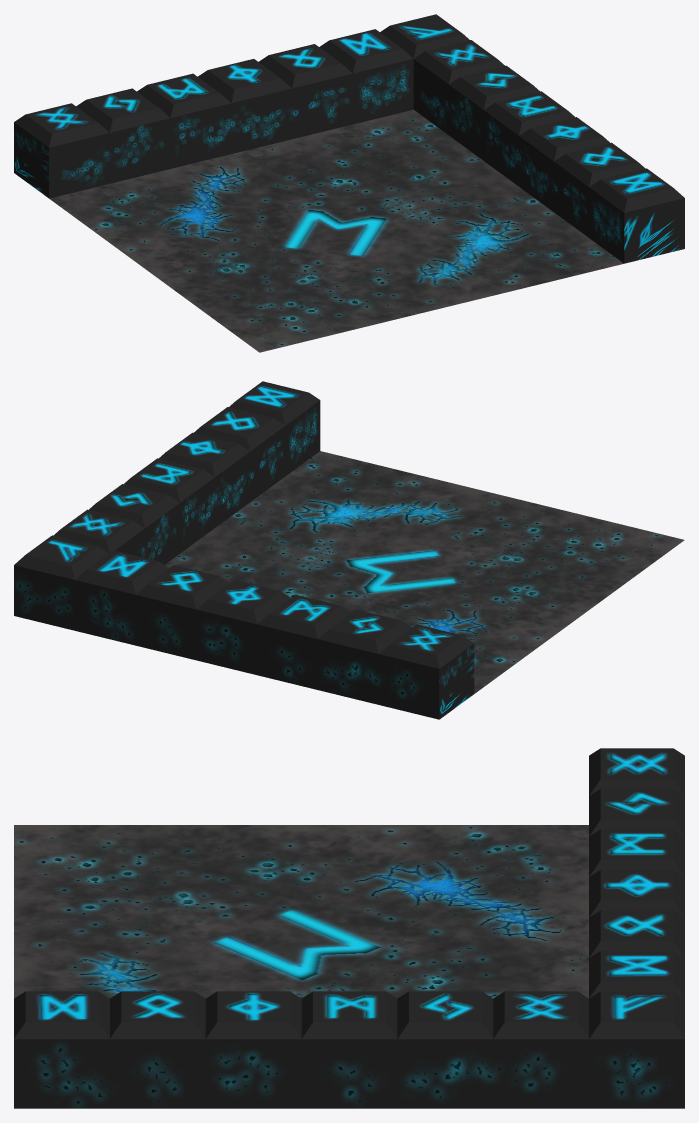
File: Field_4.fbx
3 renders of one model, top to bottom at view 1: azimuth 30°, elevation 25°; view 2: azimuth 150°, elevation 25°; view 3: azimuth 270°, elevation 25°, orthographic. The views are drawn at different scales.
Parts seen in each view (by area): view 1: Plane001; view 2: Plane001; view 3: Plane001.
Boxes of the visible parts, bbox=[...] form: Plane001: bbox=[14, 14, 684, 352]; Plane001: bbox=[14, 381, 684, 719]; Plane001: bbox=[14, 748, 684, 1108].
Bounding box in the file's own units: 1378 × 185 × 1378.
Materials: 1 (1 with a texture image).
